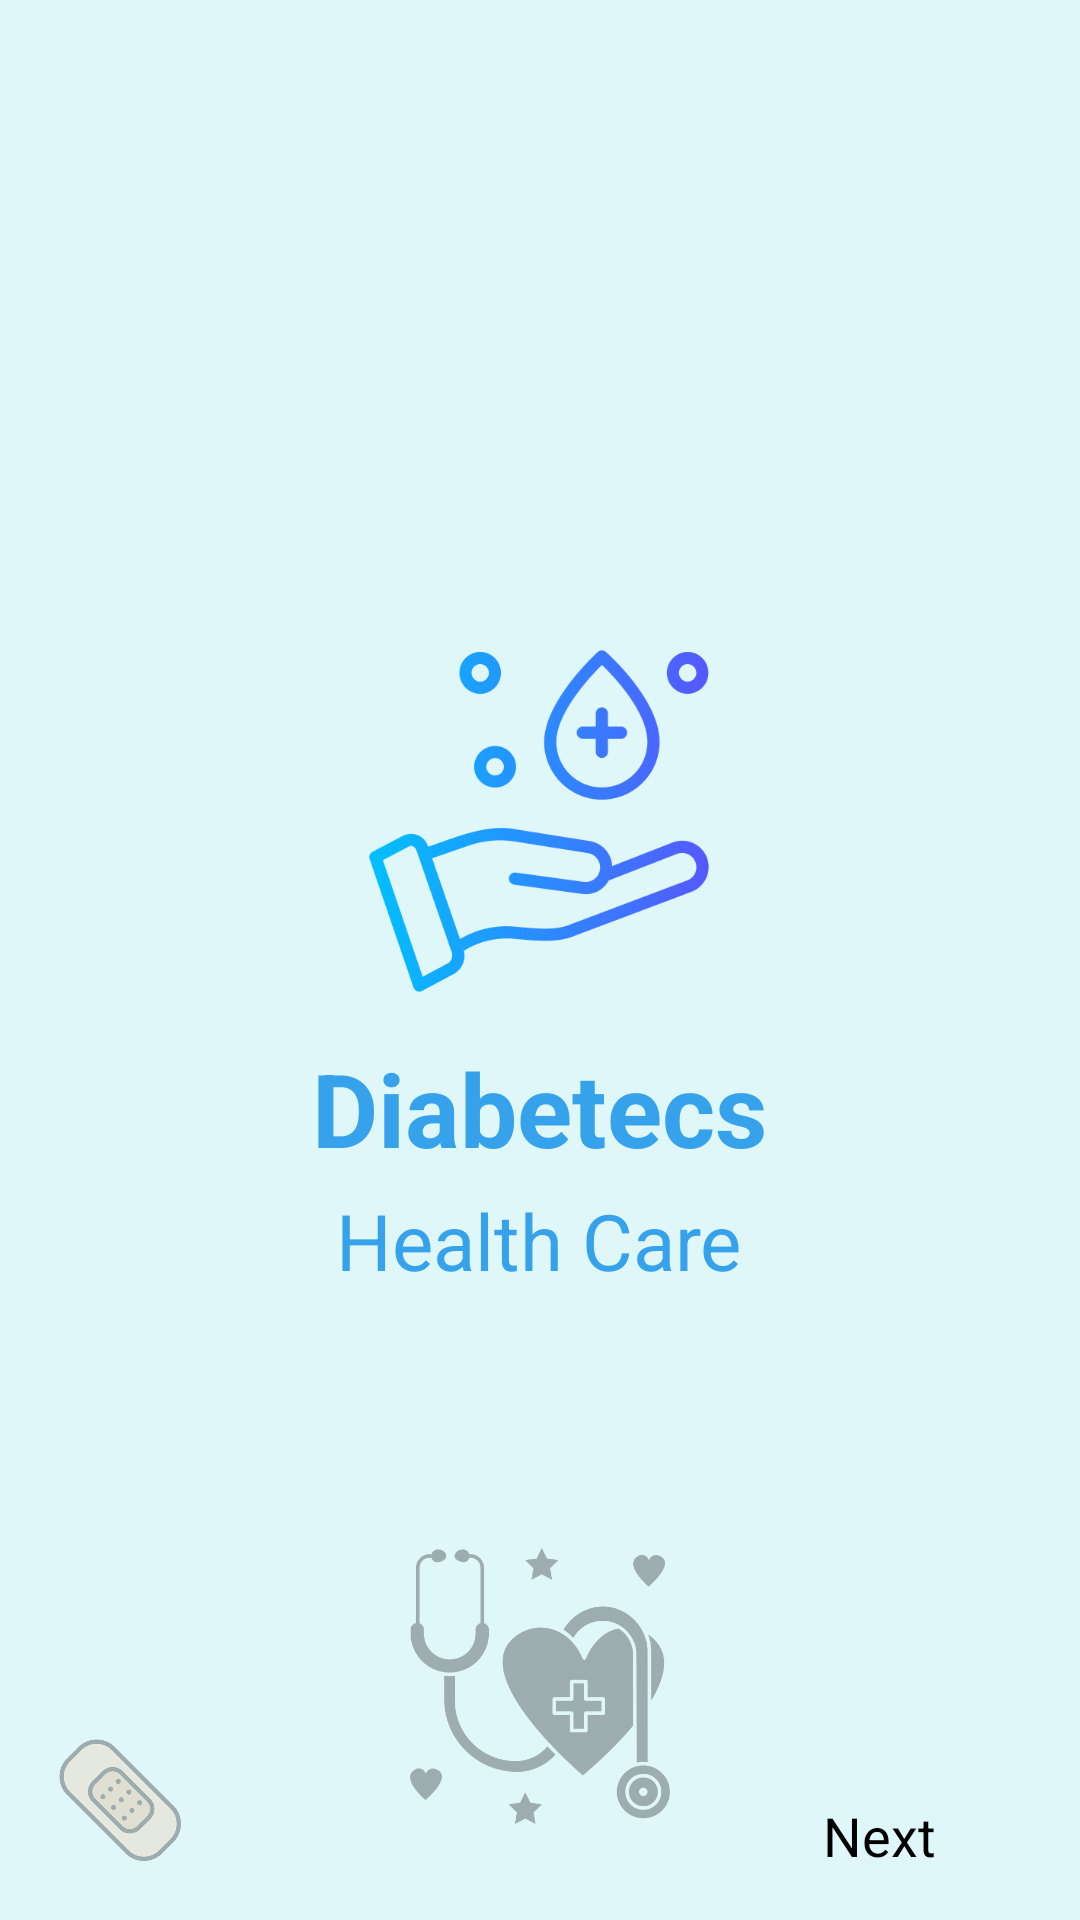

Icon click points for this 1080*1920 phone screenshot, format point (x, y):
bandage: point (120, 1800)
doctor: point (540, 1686)
sanitary: point (539, 821)
